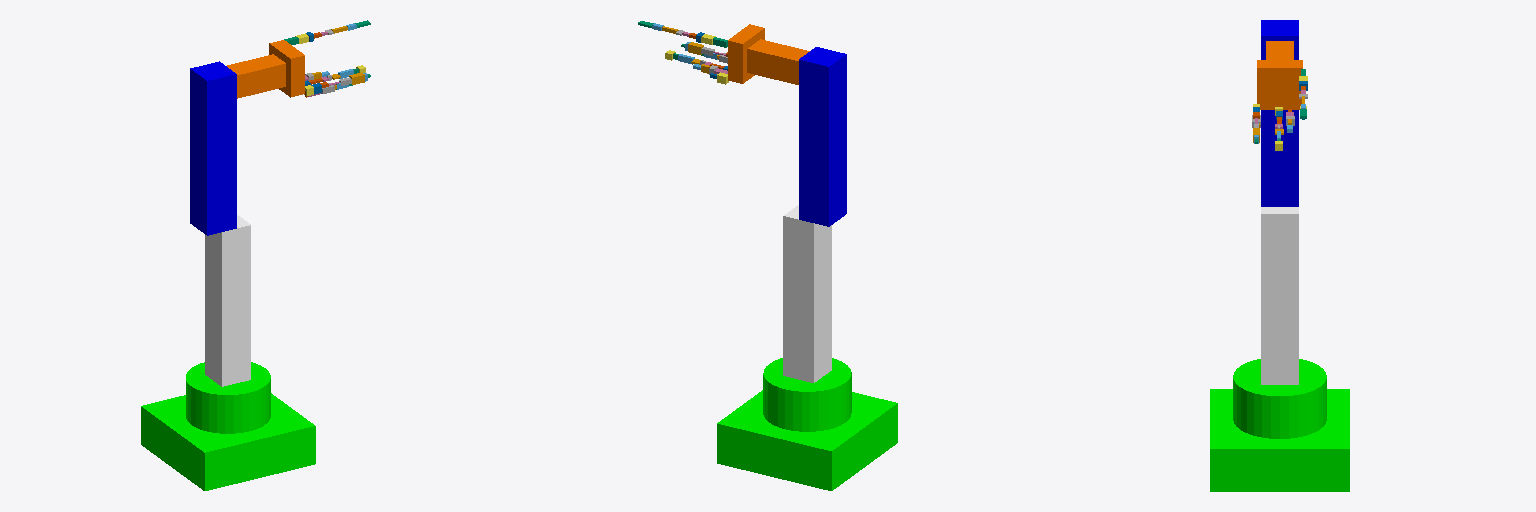
--- Render facts (derived) ---
3 views of the same robot in one strip: view 1: azimuth 30°, elevation 25°; view 2: azimuth 150°, elevation 25°; view 3: azimuth 270°, elevation 25° (orthographic).
Model robot with 44 links and 43 joints (40 revolute, 1 continuous, 2 fixed), rooted at base_link, posed all joints at 0.
Links seen in each view (by area): view 1: base_link, arm_link, support_link, wrist_link, palm_link; view 2: base_link, arm_link, support_link, wrist_link, palm_link; view 3: base_link, support_link, arm_link, palm_link, wrist_link.
Link boxes in pixels (x1,y1,x2,y2): base_link: (141,362,315,490); arm_link: (190,61,236,235); support_link: (205,215,250,386); wrist_link: (227,54,285,98); palm_link: (269,40,304,97); base_link: (717,358,897,490); arm_link: (799,47,846,226); support_link: (783,205,831,382); wrist_link: (747,39,809,84); palm_link: (728,24,764,83); base_link: (1210,359,1349,491); support_link: (1261,207,1298,384); arm_link: (1261,20,1298,206); palm_link: (1257,60,1302,109); wrist_link: (1266,41,1293,59).
Bounding box of the posed robot: 1.4 × 0.75 × 2.52 m (x, y, z).
Geometry: primitives only (box / cylinder / sphere), no mesh files.

The robot description file, URDF, robot "robot":
<?xml version='1.0' encoding='utf-8'?>
<robot name="robot">
  <link name="base_link">
    <visual>
      <origin xyz="0 0 0.125" rpy="0 0 0" />
      <geometry>
        <box size="0.75 0.75 0.25" />
      </geometry>
      <material name="green" />
    </visual>
    <visual>
      <origin xyz="0 0 0.375" rpy="0 0 0" />
      <geometry>
        <cylinder length="0.25" radius="0.25" />
      </geometry>
      <material name="green">
        <color rgba="0 1 0 1" />
      </material>
    </visual>
    <collision>
      <geometry>
        <box size="0.75 0.75 0.5" />
      </geometry>
    </collision>
    <inertial>
      <mass value="0.5" />
      <inertia ixx="0.034" ixy="0.0" ixz="0.0" iyy="0.034" iyz="0.0" izz="0.034" />
    </inertial>
  </link>
  <link name="support_link">
    <visual>
      <origin xyz="0 0 0.5" rpy="0 0 0" />
      <geometry>
        <box size="0.2 0.2 1" />
      </geometry>
      <material name="white">
        <color rgba="1 1 1 1" />
      </material>
    </visual>
    <collision>
      <geometry>
        <box size="0.2 0.2 1" />
      </geometry>
    </collision>
    <inertial>
      <mass value="0.1" />
      <inertia ixx="0.01" ixy="0.0" ixz="0.0" iyy="0.01" iyz="0.0" izz="0.01" />
    </inertial>
  </link>
  <joint name="support_joint" type="continuous">
    <origin xyz="0 0 0.5" rpy="0 0 0" />
    <parent link="base_link" />
    <child link="support_link" />
    <axis xyz="0 0 1" />
  </joint>
  <link name="arm_link">
    <visual>
      <origin xyz="0 0 0.5" rpy="0 0 0" />
      <geometry>
        <box size="0.2 0.2 1" />
      </geometry>
      <material name="blue">
        <color rgba="0 0 1 1" />
      </material>
    </visual>
    <collision>
      <geometry>
        <box size="0.2 0.2 1" />
      </geometry>
    </collision>
    <inertial>
      <mass value="0.1" />
      <inertia ixx="0.01" ixy="0.0" ixz="0.0" iyy="0.01" iyz="0.0" izz="0.01" />
    </inertial>
  </link>
  <joint name="arm_joint" type="revolute">
    <origin xyz="-0.1 0 1" rpy="0 0 0" />
    <parent link="support_link" />
    <child link="arm_link" />
    <axis xyz="0 1 0" />
    <limit lower="-3.14" upper="3.14" effort="1.0" velocity="1.0" />
  </joint>
  <link name="wrist_link">
    <visual>
      <origin xyz="0 0 0.25" rpy="0 0 0" />
      <geometry>
        <box size="0.15 0.15 0.5" />
      </geometry>
      <material name="orange">
        <color rgba="1 0.5 0 1" />
      </material>
    </visual>
    <collision>
      <geometry>
        <box size="0.15 0.15 0.5" />
      </geometry>
    </collision>
    <inertial>
      <mass value="0.1" />
      <inertia ixx="0.01" ixy="0.0" ixz="0.0" iyy="0.01" iyz="0.0" izz="0.01" />
    </inertial>
  </link>
  <joint name="wrist_joint" type="fixed">
    <origin xyz="0 0 0.9" rpy="0 1.571 0" />
    <parent link="arm_link" />
    <child link="wrist_link" />
  </joint>
  <link name="palm_link">
    <visual>
      <origin xyz="0 0 0.05" rpy="0 0 0" />
      <geometry>
        <box size="0.25 0.25 0.1" />
      </geometry>
      <material name="orange" />
    </visual>
    <collision>
      <geometry>
        <box size="0.25 0.25 0.1" />
      </geometry>
    </collision>
    <inertial>
      <mass value="0.1" />
      <inertia ixx="0.01" ixy="0.0" ixz="0.0" iyy="0.01" iyz="0.0" izz="0.01" />
    </inertial>
  </link>
  <joint name="palm_joint" type="fixed">
    <origin xyz="0 0 0.45" rpy="0 0 0" />
    <parent link="wrist_link" />
    <child link="palm_link" />
  </joint>
  <link name="finger_link_0_0">
    <visual>
      <origin xyz="0 0 0.0075" rpy="0 0 0" />
      <geometry>
        <box size="0.043 0.015 0.015" />
      </geometry>
    </visual>
    <collision>
      <geometry>
        <box size="0.043 0.015 0.015" />
      </geometry>
    </collision>
    <inertial>
      <mass value="0.003" />
      <inertia ixx="0.0" iyy="0.0" izz="0.0" ixy="0" ixz="0" iyz="0" />
    </inertial>
  </link>
  <joint name="finger_joint_palm_link_to_finger_link_0_0" type="revolute">
    <origin xyz="0.124 -0.125 0.1" rpy="0 0 0" />
    <parent link="palm_link" />
    <child link="finger_link_0_0" />
    <axis xyz="1.0 0.0 0.0" />
    <limit lower="-3.142" upper="3.142" effort="10" velocity="10" />
  </joint>
  <link name="finger_link_0_1">
    <visual>
      <origin xyz="0 0 0.0435" rpy="0 0 0" />
      <geometry>
        <box size="0.042 0.023 0.087" />
      </geometry>
    </visual>
    <collision>
      <geometry>
        <box size="0.042 0.023 0.087" />
      </geometry>
    </collision>
    <inertial>
      <mass value="0.025" />
      <inertia ixx="0.0" iyy="0.0" izz="0.0" ixy="0" ixz="0" iyz="0" />
    </inertial>
  </link>
  <joint name="finger_joint_finger_link_0_0_to_finger_link_0_1" type="revolute">
    <origin xyz="0.0 0.0 0.015" rpy="0 0 0" />
    <parent link="finger_link_0_0" />
    <child link="finger_link_0_1" />
    <axis xyz="0.0 1.0 0.0" />
    <limit lower="-3.142" upper="3.142" effort="10" velocity="10" />
  </joint>
  <link name="finger_link_0_2">
    <visual>
      <origin xyz="0 0 0.041" rpy="0 0 0" />
      <geometry>
        <box size="0.036 0.049 0.082" />
      </geometry>
    </visual>
    <collision>
      <geometry>
        <box size="0.036 0.049 0.082" />
      </geometry>
    </collision>
    <inertial>
      <mass value="0.043" />
      <inertia ixx="0.0" iyy="0.0" izz="0.0" ixy="0" ixz="0" iyz="0" />
    </inertial>
  </link>
  <joint name="finger_joint_finger_link_0_1_to_finger_link_0_2" type="revolute">
    <origin xyz="0.0 0.0 0.087" rpy="0 0 0" />
    <parent link="finger_link_0_1" />
    <child link="finger_link_0_2" />
    <axis xyz="1.0 0.0 0.0" />
    <limit lower="-3.142" upper="3.142" effort="10" velocity="10" />
  </joint>
  <link name="finger_link_0_3">
    <visual>
      <origin xyz="0 0 0.0105" rpy="0 0 0" />
      <geometry>
        <box size="0.023 0.032 0.021" />
      </geometry>
    </visual>
    <collision>
      <geometry>
        <box size="0.023 0.032 0.021" />
      </geometry>
    </collision>
    <inertial>
      <mass value="0.005" />
      <inertia ixx="0.0" iyy="0.0" izz="0.0" ixy="0" ixz="0" iyz="0" />
    </inertial>
  </link>
  <joint name="finger_joint_finger_link_0_2_to_finger_link_0_3" type="revolute">
    <origin xyz="0.0 0.0 0.082" rpy="0 0 0" />
    <parent link="finger_link_0_2" />
    <child link="finger_link_0_3" />
    <axis xyz="0.0 1.0 0.0" />
    <limit lower="-3.142" upper="3.142" effort="10" velocity="10" />
  </joint>
  <link name="finger_link_0_4">
    <visual>
      <origin xyz="0 0 0.042" rpy="0 0 0" />
      <geometry>
        <box size="0.035 0.027 0.084" />
      </geometry>
    </visual>
    <collision>
      <geometry>
        <box size="0.035 0.027 0.084" />
      </geometry>
    </collision>
    <inertial>
      <mass value="0.024" />
      <inertia ixx="0.0" iyy="0.0" izz="0.0" ixy="0" ixz="0" iyz="0" />
    </inertial>
  </link>
  <joint name="finger_joint_finger_link_0_3_to_finger_link_0_4" type="revolute">
    <origin xyz="0.0 0.0 0.021" rpy="0 0 0" />
    <parent link="finger_link_0_3" />
    <child link="finger_link_0_4" />
    <axis xyz="0.0 1.0 0.0" />
    <limit lower="-3.142" upper="3.142" effort="10" velocity="10" />
  </joint>
  <link name="finger_link_0_5">
    <visual>
      <origin xyz="0 0 0.016" rpy="0 0 0" />
      <geometry>
        <box size="0.031 0.021 0.032" />
      </geometry>
    </visual>
    <collision>
      <geometry>
        <box size="0.031 0.021 0.032" />
      </geometry>
    </collision>
    <inertial>
      <mass value="0.006" />
      <inertia ixx="0.0" iyy="0.0" izz="0.0" ixy="0" ixz="0" iyz="0" />
    </inertial>
  </link>
  <joint name="finger_joint_finger_link_0_4_to_finger_link_0_5" type="revolute">
    <origin xyz="0.0 0.0 0.084" rpy="0 0 0" />
    <parent link="finger_link_0_4" />
    <child link="finger_link_0_5" />
    <axis xyz="0.0 1.0 0.0" />
    <limit lower="-3.142" upper="3.142" effort="10" velocity="10" />
  </joint>
  <link name="finger_link_1_0">
    <visual>
      <origin xyz="0 0 0.0235" rpy="0 0 0" />
      <geometry>
        <box size="0.047 0.041 0.047" />
      </geometry>
    </visual>
    <collision>
      <geometry>
        <box size="0.047 0.041 0.047" />
      </geometry>
    </collision>
    <inertial>
      <mass value="0.027" />
      <inertia ixx="0.0" iyy="0.0" izz="0.0" ixy="0" ixz="0" iyz="0" />
    </inertial>
  </link>
  <joint name="finger_joint_palm_link_to_finger_link_1_0" type="revolute">
    <origin xyz="0.109 -0.125 0.1" rpy="0 0 0" />
    <parent link="palm_link" />
    <child link="finger_link_1_0" />
    <axis xyz="1.0 0.0 0.0" />
    <limit lower="-3.142" upper="3.142" effort="10" velocity="10" />
  </joint>
  <link name="finger_link_1_1">
    <visual>
      <origin xyz="0 0 0.028" rpy="0 0 0" />
      <geometry>
        <box size="0.046 0.042 0.056" />
      </geometry>
    </visual>
    <collision>
      <geometry>
        <box size="0.046 0.042 0.056" />
      </geometry>
    </collision>
    <inertial>
      <mass value="0.032" />
      <inertia ixx="0.0" iyy="0.0" izz="0.0" ixy="0" ixz="0" iyz="0" />
    </inertial>
  </link>
  <joint name="finger_joint_finger_link_1_0_to_finger_link_1_1" type="revolute">
    <origin xyz="0.0 0.0 0.047" rpy="0 0 0" />
    <parent link="finger_link_1_0" />
    <child link="finger_link_1_1" />
    <axis xyz="0.0 1.0 0.0" />
    <limit lower="-3.142" upper="3.142" effort="10" velocity="10" />
  </joint>
  <link name="finger_link_1_2">
    <visual>
      <origin xyz="0 0 0.0225" rpy="0 0 0" />
      <geometry>
        <box size="0.043 0.033 0.045" />
      </geometry>
    </visual>
    <collision>
      <geometry>
        <box size="0.043 0.033 0.045" />
      </geometry>
    </collision>
    <inertial>
      <mass value="0.019" />
      <inertia ixx="0.0" iyy="0.0" izz="0.0" ixy="0" ixz="0" iyz="0" />
    </inertial>
  </link>
  <joint name="finger_joint_finger_link_1_1_to_finger_link_1_2" type="revolute">
    <origin xyz="0.0 0.0 0.056" rpy="0 0 0" />
    <parent link="finger_link_1_1" />
    <child link="finger_link_1_2" />
    <axis xyz="0.0 1.0 0.0" />
    <limit lower="-3.142" upper="3.142" effort="10" velocity="10" />
  </joint>
  <link name="finger_link_1_3">
    <visual>
      <origin xyz="0 0 0.0425" rpy="0 0 0" />
      <geometry>
        <box size="0.015 0.014 0.085" />
      </geometry>
    </visual>
    <collision>
      <geometry>
        <box size="0.015 0.014 0.085" />
      </geometry>
    </collision>
    <inertial>
      <mass value="0.005" />
      <inertia ixx="0.0" iyy="0.0" izz="0.0" ixy="0" ixz="0" iyz="0" />
    </inertial>
  </link>
  <joint name="finger_joint_finger_link_1_2_to_finger_link_1_3" type="revolute">
    <origin xyz="0.0 0.0 0.045" rpy="0 0 0" />
    <parent link="finger_link_1_2" />
    <child link="finger_link_1_3" />
    <axis xyz="1.0 0.0 0.0" />
    <limit lower="-3.142" upper="3.142" effort="10" velocity="10" />
  </joint>
  <link name="finger_link_1_4">
    <visual>
      <origin xyz="0 0 0.037" rpy="0 0 0" />
      <geometry>
        <box size="0.03 0.029 0.074" />
      </geometry>
    </visual>
    <collision>
      <geometry>
        <box size="0.03 0.029 0.074" />
      </geometry>
    </collision>
    <inertial>
      <mass value="0.019" />
      <inertia ixx="0.0" iyy="0.0" izz="0.0" ixy="0" ixz="0" iyz="0" />
    </inertial>
  </link>
  <joint name="finger_joint_finger_link_1_3_to_finger_link_1_4" type="revolute">
    <origin xyz="0.0 0.0 0.085" rpy="0 0 0" />
    <parent link="finger_link_1_3" />
    <child link="finger_link_1_4" />
    <axis xyz="1.0 0.0 0.0" />
    <limit lower="-3.142" upper="3.142" effort="10" velocity="10" />
  </joint>
  <link name="finger_link_1_5">
    <visual>
      <origin xyz="0 0 0.0425" rpy="0 0 0" />
      <geometry>
        <box size="0.049 0.038 0.085" />
      </geometry>
    </visual>
    <collision>
      <geometry>
        <box size="0.049 0.038 0.085" />
      </geometry>
    </collision>
    <inertial>
      <mass value="0.047" />
      <inertia ixx="0.0" iyy="0.0" izz="0.0" ixy="0" ixz="0" iyz="0" />
    </inertial>
  </link>
  <joint name="finger_joint_finger_link_1_4_to_finger_link_1_5" type="revolute">
    <origin xyz="0.0 0.0 0.074" rpy="0 0 0" />
    <parent link="finger_link_1_4" />
    <child link="finger_link_1_5" />
    <axis xyz="1.0 1.0 0.0" />
    <limit lower="-3.142" upper="3.142" effort="10" velocity="10" />
  </joint>
  <link name="finger_link_1_6">
    <visual>
      <origin xyz="0 0 0.0105" rpy="0 0 0" />
      <geometry>
        <box size="0.043 0.031 0.021" />
      </geometry>
    </visual>
    <collision>
      <geometry>
        <box size="0.043 0.031 0.021" />
      </geometry>
    </collision>
    <inertial>
      <mass value="0.008" />
      <inertia ixx="0.0" iyy="0.0" izz="0.0" ixy="0" ixz="0" iyz="0" />
    </inertial>
  </link>
  <joint name="finger_joint_finger_link_1_5_to_finger_link_1_6" type="revolute">
    <origin xyz="0.0 0.0 0.085" rpy="0 0 0" />
    <parent link="finger_link_1_5" />
    <child link="finger_link_1_6" />
    <axis xyz="0.0 1.0 0.0" />
    <limit lower="-3.142" upper="3.142" effort="10" velocity="10" />
  </joint>
  <link name="finger_link_1_7">
    <visual>
      <origin xyz="0 0 0.0135" rpy="0 0 0" />
      <geometry>
        <box size="0.012 0.02 0.027" />
      </geometry>
    </visual>
    <collision>
      <geometry>
        <box size="0.012 0.02 0.027" />
      </geometry>
    </collision>
    <inertial>
      <mass value="0.002" />
      <inertia ixx="0.0" iyy="0.0" izz="0.0" ixy="0" ixz="0" iyz="0" />
    </inertial>
  </link>
  <joint name="finger_joint_finger_link_1_6_to_finger_link_1_7" type="revolute">
    <origin xyz="0.0 0.0 0.021" rpy="0 0 0" />
    <parent link="finger_link_1_6" />
    <child link="finger_link_1_7" />
    <axis xyz="0.0 1.0 0.0" />
    <limit lower="-3.142" upper="3.142" effort="10" velocity="10" />
  </joint>
  <link name="finger_link_2_0">
    <visual>
      <origin xyz="0 0 0.0295" rpy="0 0 0" />
      <geometry>
        <box size="0.047 0.042 0.059" />
      </geometry>
    </visual>
    <collision>
      <geometry>
        <box size="0.047 0.042 0.059" />
      </geometry>
    </collision>
    <inertial>
      <mass value="0.035" />
      <inertia ixx="0.0" iyy="0.0" izz="0.0" ixy="0" ixz="0" iyz="0" />
    </inertial>
  </link>
  <joint name="finger_joint_palm_link_to_finger_link_2_0" type="revolute">
    <origin xyz="0.12 0.125 0.1" rpy="0 0 0" />
    <parent link="palm_link" />
    <child link="finger_link_2_0" />
    <axis xyz="-1.0 0.0 0.0" />
    <limit lower="-3.142" upper="3.142" effort="10" velocity="10" />
  </joint>
  <link name="finger_link_2_1">
    <visual>
      <origin xyz="0 0 0.0245" rpy="0 0 0" />
      <geometry>
        <box size="0.022 0.017 0.049" />
      </geometry>
    </visual>
    <collision>
      <geometry>
        <box size="0.022 0.017 0.049" />
      </geometry>
    </collision>
    <inertial>
      <mass value="0.005" />
      <inertia ixx="0.0" iyy="0.0" izz="0.0" ixy="0" ixz="0" iyz="0" />
    </inertial>
  </link>
  <joint name="finger_joint_finger_link_2_0_to_finger_link_2_1" type="revolute">
    <origin xyz="0.0 0.0 0.059" rpy="0 0 0" />
    <parent link="finger_link_2_0" />
    <child link="finger_link_2_1" />
    <axis xyz="0.0 1.0 0.0" />
    <limit lower="-3.142" upper="3.142" effort="10" velocity="10" />
  </joint>
  <link name="finger_link_3_0">
    <visual>
      <origin xyz="0 0 0.0195" rpy="0 0 0" />
      <geometry>
        <box size="0.013 0.018 0.039" />
      </geometry>
    </visual>
    <collision>
      <geometry>
        <box size="0.013 0.018 0.039" />
      </geometry>
    </collision>
    <inertial>
      <mass value="0.003" />
      <inertia ixx="0.0" iyy="0.0" izz="0.0" ixy="0" ixz="0" iyz="0" />
    </inertial>
  </link>
  <joint name="finger_joint_palm_link_to_finger_link_3_0" type="revolute">
    <origin xyz="0.125 0.054 0.1" rpy="0 0 0" />
    <parent link="palm_link" />
    <child link="finger_link_3_0" />
    <axis xyz="0.0 1.0 0.0" />
    <limit lower="-3.142" upper="3.142" effort="10" velocity="10" />
  </joint>
  <link name="finger_link_3_1">
    <visual>
      <origin xyz="0 0 0.039" rpy="0 0 0" />
      <geometry>
        <box size="0.023 0.044 0.078" />
      </geometry>
    </visual>
    <collision>
      <geometry>
        <box size="0.023 0.044 0.078" />
      </geometry>
    </collision>
    <inertial>
      <mass value="0.024" />
      <inertia ixx="0.0" iyy="0.0" izz="0.0" ixy="0" ixz="0" iyz="0" />
    </inertial>
  </link>
  <joint name="finger_joint_finger_link_3_0_to_finger_link_3_1" type="revolute">
    <origin xyz="0.0 0.0 0.039" rpy="0 0 0" />
    <parent link="finger_link_3_0" />
    <child link="finger_link_3_1" />
    <axis xyz="0.0 1.0 0.0" />
    <limit lower="-3.142" upper="3.142" effort="10" velocity="10" />
  </joint>
  <link name="finger_link_3_2">
    <visual>
      <origin xyz="0 0 0.017" rpy="0 0 0" />
      <geometry>
        <box size="0.043 0.048 0.034" />
      </geometry>
    </visual>
    <collision>
      <geometry>
        <box size="0.043 0.048 0.034" />
      </geometry>
    </collision>
    <inertial>
      <mass value="0.021" />
      <inertia ixx="0.0" iyy="0.0" izz="0.0" ixy="0" ixz="0" iyz="0" />
    </inertial>
  </link>
  <joint name="finger_joint_finger_link_3_1_to_finger_link_3_2" type="revolute">
    <origin xyz="0.0 0.0 0.078" rpy="0 0 0" />
    <parent link="finger_link_3_1" />
    <child link="finger_link_3_2" />
    <axis xyz="1.0 0.0 0.0" />
    <limit lower="-3.142" upper="3.142" effort="10" velocity="10" />
  </joint>
  <link name="finger_link_3_3">
    <visual>
      <origin xyz="0 0 0.0285" rpy="0 0 0" />
      <geometry>
        <box size="0.041 0.021 0.057" />
      </geometry>
    </visual>
    <collision>
      <geometry>
        <box size="0.041 0.021 0.057" />
      </geometry>
    </collision>
    <inertial>
      <mass value="0.015" />
      <inertia ixx="0.0" iyy="0.0" izz="0.0" ixy="0" ixz="0" iyz="0" />
    </inertial>
  </link>
  <joint name="finger_joint_finger_link_3_2_to_finger_link_3_3" type="revolute">
    <origin xyz="0.0 0.0 0.034" rpy="0 0 0" />
    <parent link="finger_link_3_2" />
    <child link="finger_link_3_3" />
    <axis xyz="0.0 1.0 0.0" />
    <limit lower="-3.142" upper="3.142" effort="10" velocity="10" />
  </joint>
  <link name="finger_link_3_4">
    <visual>
      <origin xyz="0 0 0.026" rpy="0 0 0" />
      <geometry>
        <box size="0.018 0.031 0.052" />
      </geometry>
    </visual>
    <collision>
      <geometry>
        <box size="0.018 0.031 0.052" />
      </geometry>
    </collision>
    <inertial>
      <mass value="0.009" />
      <inertia ixx="0.0" iyy="0.0" izz="0.0" ixy="0" ixz="0" iyz="0" />
    </inertial>
  </link>
  <joint name="finger_joint_finger_link_3_3_to_finger_link_3_4" type="revolute">
    <origin xyz="0.0 0.0 0.057" rpy="0 0 0" />
    <parent link="finger_link_3_3" />
    <child link="finger_link_3_4" />
    <axis xyz="0.0 1.0 0.0" />
    <limit lower="-3.142" upper="3.142" effort="10" velocity="10" />
  </joint>
  <link name="finger_link_4_0">
    <visual>
      <origin xyz="0 0 0.045" rpy="0 0 0" />
      <geometry>
        <box size="0.037 0.028 0.09" />
      </geometry>
    </visual>
    <collision>
      <geometry>
        <box size="0.037 0.028 0.09" />
      </geometry>
    </collision>
    <inertial>
      <mass value="0.028" />
      <inertia ixx="0.0" iyy="0.0" izz="0.0" ixy="0" ixz="0" iyz="0" />
    </inertial>
  </link>
  <joint name="finger_joint_palm_link_to_finger_link_4_0" type="revolute">
    <origin xyz="-0.101 0.125 0.1" rpy="0 0 0" />
    <parent link="palm_link" />
    <child link="finger_link_4_0" />
    <axis xyz="-1.0 0.0 0.0" />
    <limit lower="-3.142" upper="3.142" effort="10" velocity="10" />
  </joint>
  <link name="finger_link_4_1">
    <visual>
      <origin xyz="0 0 0.0345" rpy="0 0 0" />
      <geometry>
        <box size="0.037 0.045 0.069" />
      </geometry>
    </visual>
    <collision>
      <geometry>
        <box size="0.037 0.045 0.069" />
      </geometry>
    </collision>
    <inertial>
      <mass value="0.034" />
      <inertia ixx="0.0" iyy="0.0" izz="0.0" ixy="0" ixz="0" iyz="0" />
    </inertial>
  </link>
  <joint name="finger_joint_finger_link_4_0_to_finger_link_4_1" type="revolute">
    <origin xyz="0.0 0.0 0.09" rpy="0 0 0" />
    <parent link="finger_link_4_0" />
    <child link="finger_link_4_1" />
    <axis xyz="0.0 1.0 0.0" />
    <limit lower="-3.142" upper="3.142" effort="10" velocity="10" />
  </joint>
  <link name="finger_link_4_2">
    <visual>
      <origin xyz="0 0 0.0165" rpy="0 0 0" />
      <geometry>
        <box size="0.042 0.047 0.033" />
      </geometry>
    </visual>
    <collision>
      <geometry>
        <box size="0.042 0.047 0.033" />
      </geometry>
    </collision>
    <inertial>
      <mass value="0.02" />
      <inertia ixx="0.0" iyy="0.0" izz="0.0" ixy="0" ixz="0" iyz="0" />
    </inertial>
  </link>
  <joint name="finger_joint_finger_link_4_1_to_finger_link_4_2" type="revolute">
    <origin xyz="0.0 0.0 0.069" rpy="0 0 0" />
    <parent link="finger_link_4_1" />
    <child link="finger_link_4_2" />
    <axis xyz="0.0 1.0 0.0" />
    <limit lower="-3.142" upper="3.142" effort="10" velocity="10" />
  </joint>
  <link name="finger_link_4_3">
    <visual>
      <origin xyz="0 0 0.0275" rpy="0 0 0" />
      <geometry>
        <box size="0.019 0.028 0.055" />
      </geometry>
    </visual>
    <collision>
      <geometry>
        <box size="0.019 0.028 0.055" />
      </geometry>
    </collision>
    <inertial>
      <mass value="0.009" />
      <inertia ixx="0.0" iyy="0.0" izz="0.0" ixy="0" ixz="0" iyz="0" />
    </inertial>
  </link>
  <joint name="finger_joint_finger_link_4_2_to_finger_link_4_3" type="revolute">
    <origin xyz="0.0 0.0 0.033" rpy="0 0 0" />
    <parent link="finger_link_4_2" />
    <child link="finger_link_4_3" />
    <axis xyz="0.0 1.0 0.0" />
    <limit lower="-3.142" upper="3.142" effort="10" velocity="10" />
  </joint>
  <link name="finger_link_4_4">
    <visual>
      <origin xyz="0 0 0.0215" rpy="0 0 0" />
      <geometry>
        <box size="0.014 0.022 0.043" />
      </geometry>
    </visual>
    <collision>
      <geometry>
        <box size="0.014 0.022 0.043" />
      </geometry>
    </collision>
    <inertial>
      <mass value="0.004" />
      <inertia ixx="0.0" iyy="0.0" izz="0.0" ixy="0" ixz="0" iyz="0" />
    </inertial>
  </link>
  <joint name="finger_joint_finger_link_4_3_to_finger_link_4_4" type="revolute">
    <origin xyz="0.0 0.0 0.055" rpy="0 0 0" />
    <parent link="finger_link_4_3" />
    <child link="finger_link_4_4" />
    <axis xyz="1.0 0.0 0.0" />
    <limit lower="-3.142" upper="3.142" effort="10" velocity="10" />
  </joint>
  <link name="finger_link_4_5">
    <visual>
      <origin xyz="0 0 0.018" rpy="0 0 0" />
      <geometry>
        <box size="0.012 0.046 0.036" />
      </geometry>
    </visual>
    <collision>
      <geometry>
        <box size="0.012 0.046 0.036" />
      </geometry>
    </collision>
    <inertial>
      <mass value="0.006" />
      <inertia ixx="0.0" iyy="0.0" izz="0.0" ixy="0" ixz="0" iyz="0" />
    </inertial>
  </link>
  <joint name="finger_joint_finger_link_4_4_to_finger_link_4_5" type="revolute">
    <origin xyz="0.0 0.0 0.043" rpy="0 0 0" />
    <parent link="finger_link_4_4" />
    <child link="finger_link_4_5" />
    <axis xyz="0.0 1.0 0.0" />
    <limit lower="-3.142" upper="3.142" effort="10" velocity="10" />
  </joint>
  <link name="finger_link_4_6">
    <visual>
      <origin xyz="0 0 0.05" rpy="0 0 0" />
      <geometry>
        <box size="0.022 0.018 0.1" />
      </geometry>
    </visual>
    <collision>
      <geometry>
        <box size="0.022 0.018 0.1" />
      </geometry>
    </collision>
    <inertial>
      <mass value="0.012" />
      <inertia ixx="0.0" iyy="0.0" izz="0.0" ixy="0" ixz="0" iyz="0" />
    </inertial>
  </link>
  <joint name="finger_joint_finger_link_4_5_to_finger_link_4_6" type="revolute">
    <origin xyz="0.0 0.0 0.036" rpy="0 0 0" />
    <parent link="finger_link_4_5" />
    <child link="finger_link_4_6" />
    <axis xyz="1.0 0.0 0.0" />
    <limit lower="-3.142" upper="3.142" effort="10" velocity="10" />
  </joint>
  <link name="finger_link_4_7">
    <visual>
      <origin xyz="0 0 0.0295" rpy="0 0 0" />
      <geometry>
        <box size="0.025 0.028 0.059" />
      </geometry>
    </visual>
    <collision>
      <geometry>
        <box size="0.025 0.028 0.059" />
      </geometry>
    </collision>
    <inertial>
      <mass value="0.012" />
      <inertia ixx="0.0" iyy="0.0" izz="0.0" ixy="0" ixz="0" iyz="0" />
    </inertial>
  </link>
  <joint name="finger_joint_finger_link_4_6_to_finger_link_4_7" type="revolute">
    <origin xyz="0.0 0.0 0.1" rpy="0 0 0" />
    <parent link="finger_link_4_6" />
    <child link="finger_link_4_7" />
    <axis xyz="1.0 0.0 0.0" />
    <limit lower="-3.142" upper="3.142" effort="10" velocity="10" />
  </joint>
  <link name="finger_link_4_8">
    <visual>
      <origin xyz="0 0 0.045" rpy="0 0 0" />
      <geometry>
        <box size="0.014 0.036 0.09" />
      </geometry>
    </visual>
    <collision>
      <geometry>
        <box size="0.014 0.036 0.09" />
      </geometry>
    </collision>
    <inertial>
      <mass value="0.014" />
      <inertia ixx="0.0" iyy="0.0" izz="0.0" ixy="0" ixz="0" iyz="0" />
    </inertial>
  </link>
  <joint name="finger_joint_finger_link_4_7_to_finger_link_4_8" type="revolute">
    <origin xyz="0.0 0.0 0.059" rpy="0 0 0" />
    <parent link="finger_link_4_7" />
    <child link="finger_link_4_8" />
    <axis xyz="0.0 1.0 0.0" />
    <limit lower="-3.142" upper="3.142" effort="10" velocity="10" />
  </joint>
  <link name="finger_link_5_0">
    <visual>
      <origin xyz="0 0 0.013" rpy="0 0 0" />
      <geometry>
        <box size="0.043 0.044 0.026" />
      </geometry>
    </visual>
    <collision>
      <geometry>
        <box size="0.043 0.044 0.026" />
      </geometry>
    </collision>
    <inertial>
      <mass value="0.015" />
      <inertia ixx="0.0" iyy="0.0" izz="0.0" ixy="0" ixz="0" iyz="0" />
    </inertial>
  </link>
  <joint name="finger_joint_palm_link_to_finger_link_5_0" type="revolute">
    <origin xyz="0.125 -0.004 0.1" rpy="0 0 0" />
    <parent link="palm_link" />
    <child link="finger_link_5_0" />
    <axis xyz="0.0 1.0 0.0" />
    <limit lower="-3.142" upper="3.142" effort="10" velocity="10" />
  </joint>
  <link name="finger_link_5_1">
    <visual>
      <origin xyz="0 0 0.034" rpy="0 0 0" />
      <geometry>
        <box size="0.02 0.037 0.068" />
      </geometry>
    </visual>
    <collision>
      <geometry>
        <box size="0.02 0.037 0.068" />
      </geometry>
    </collision>
    <inertial>
      <mass value="0.015" />
      <inertia ixx="0.0" iyy="0.0" izz="0.0" ixy="0" ixz="0" iyz="0" />
    </inertial>
  </link>
  <joint name="finger_joint_finger_link_5_0_to_finger_link_5_1" type="revolute">
    <origin xyz="0.0 0.0 0.026" rpy="0 0 0" />
    <parent link="finger_link_5_0" />
    <child link="finger_link_5_1" />
    <axis xyz="0.0 1.0 0.0" />
    <limit lower="-3.142" upper="3.142" effort="10" velocity="10" />
  </joint>
  <link name="finger_link_5_2">
    <visual>
      <origin xyz="0 0 0.0445" rpy="0 0 0" />
      <geometry>
        <box size="0.014 0.027 0.089" />
      </geometry>
    </visual>
    <collision>
      <geometry>
        <box size="0.014 0.027 0.089" />
      </geometry>
    </collision>
    <inertial>
      <mass value="0.01" />
      <inertia ixx="0.0" iyy="0.0" izz="0.0" ixy="0" ixz="0" iyz="0" />
    </inertial>
  </link>
  <joint name="finger_joint_finger_link_5_1_to_finger_link_5_2" type="revolute">
    <origin xyz="0.0 0.0 0.068" rpy="0 0 0" />
    <parent link="finger_link_5_1" />
    <child link="finger_link_5_2" />
    <axis xyz="0.0 1.0 0.0" />
    <limit lower="-3.142" upper="3.142" effort="10" velocity="10" />
  </joint>
  <link name="finger_link_5_3">
    <visual>
      <origin xyz="0 0 0.018" rpy="0 0 0" />
      <geometry>
        <box size="0.011 0.041 0.036" />
      </geometry>
    </visual>
    <collision>
      <geometry>
        <box size="0.011 0.041 0.036" />
      </geometry>
    </collision>
    <inertial>
      <mass value="0.005" />
      <inertia ixx="0.0" iyy="0.0" izz="0.0" ixy="0" ixz="0" iyz="0" />
    </inertial>
  </link>
  <joint name="finger_joint_finger_link_5_2_to_finger_link_5_3" type="revolute">
    <origin xyz="0.0 0.0 0.089" rpy="0 0 0" />
    <parent link="finger_link_5_2" />
    <child link="finger_link_5_3" />
    <axis xyz="0.0 1.0 0.0" />
    <limit lower="-3.142" upper="3.142" effort="10" velocity="10" />
  </joint>
  <link name="finger_link_5_4">
    <visual>
      <origin xyz="0 0 0.015" rpy="0 0 0" />
      <geometry>
        <box size="0.03 0.013 0.03" />
      </geometry>
    </visual>
    <collision>
      <geometry>
        <box size="0.03 0.013 0.03" />
      </geometry>
    </collision>
    <inertial>
      <mass value="0.004" />
      <inertia ixx="0.0" iyy="0.0" izz="0.0" ixy="0" ixz="0" iyz="0" />
    </inertial>
  </link>
  <joint name="finger_joint_finger_link_5_3_to_finger_link_5_4" type="revolute">
    <origin xyz="0.0 0.0 0.036" rpy="0 0 0" />
    <parent link="finger_link_5_3" />
    <child link="finger_link_5_4" />
    <axis xyz="1.0 0.0 0.0" />
    <limit lower="-3.142" upper="3.142" effort="10" velocity="10" />
  </joint>
  <link name="finger_link_5_5">
    <visual>
      <origin xyz="0 0 0.024" rpy="0 0 0" />
      <geometry>
        <box size="0.011 0.047 0.048" />
      </geometry>
    </visual>
    <collision>
      <geometry>
        <box size="0.011 0.047 0.048" />
      </geometry>
    </collision>
    <inertial>
      <mass value="0.007" />
      <inertia ixx="0.0" iyy="0.0" izz="0.0" ixy="0" ixz="0" iyz="0" />
    </inertial>
  </link>
  <joint name="finger_joint_finger_link_5_4_to_finger_link_5_5" type="revolute">
    <origin xyz="0.0 0.0 0.03" rpy="0 0 0" />
    <parent link="finger_link_5_4" />
    <child link="finger_link_5_5" />
    <axis xyz="0.0 1.0 0.0" />
    <limit lower="-3.142" upper="3.142" effort="10" velocity="10" />
  </joint>
  <link name="finger_link_5_6">
    <visual>
      <origin xyz="0 0 0.0475" rpy="0 0 0" />
      <geometry>
        <box size="0.037 0.022 0.095" />
      </geometry>
    </visual>
    <collision>
      <geometry>
        <box size="0.037 0.022 0.095" />
      </geometry>
    </collision>
    <inertial>
      <mass value="0.023" />
      <inertia ixx="0.0" iyy="0.0" izz="0.0" ixy="0" ixz="0" iyz="0" />
    </inertial>
  </link>
  <joint name="finger_joint_finger_link_5_5_to_finger_link_5_6" type="revolute">
    <origin xyz="0.0 0.0 0.048" rpy="0 0 0" />
    <parent link="finger_link_5_5" />
    <child link="finger_link_5_6" />
    <axis xyz="1.0 0.0 0.0" />
    <limit lower="-3.142" upper="3.142" effort="10" velocity="10" />
  </joint>
  <link name="finger_link_5_7">
    <visual>
      <origin xyz="0 0 0.018" rpy="0 0 0" />
      <geometry>
        <box size="0.031 0.014 0.036" />
      </geometry>
    </visual>
    <collision>
      <geometry>
        <box size="0.031 0.014 0.036" />
      </geometry>
    </collision>
    <inertial>
      <mass value="0.005" />
      <inertia ixx="0.0" iyy="0.0" izz="0.0" ixy="0" ixz="0" iyz="0" />
    </inertial>
  </link>
  <joint name="finger_joint_finger_link_5_6_to_finger_link_5_7" type="revolute">
    <origin xyz="0.0 0.0 0.095" rpy="0 0 0" />
    <parent link="finger_link_5_6" />
    <child link="finger_link_5_7" />
    <axis xyz="0.0 1.0 0.0" />
    <limit lower="-3.142" upper="3.142" effort="10" velocity="10" />
  </joint>
  <link name="finger_link_5_8">
    <visual>
      <origin xyz="0 0 0.0205" rpy="0 0 0" />
      <geometry>
        <box size="0.039 0.045 0.041" />
      </geometry>
    </visual>
    <collision>
      <geometry>
        <box size="0.039 0.045 0.041" />
      </geometry>
    </collision>
    <inertial>
      <mass value="0.022" />
      <inertia ixx="0.0" iyy="0.0" izz="0.0" ixy="0" ixz="0" iyz="0" />
    </inertial>
  </link>
  <joint name="finger_joint_finger_link_5_7_to_finger_link_5_8" type="revolute">
    <origin xyz="0.0 0.0 0.036" rpy="0 0 0" />
    <parent link="finger_link_5_7" />
    <child link="finger_link_5_8" />
    <axis xyz="0.0 1.0 0.0" />
    <limit lower="-3.142" upper="3.142" effort="10" velocity="10" />
  </joint>
</robot>
